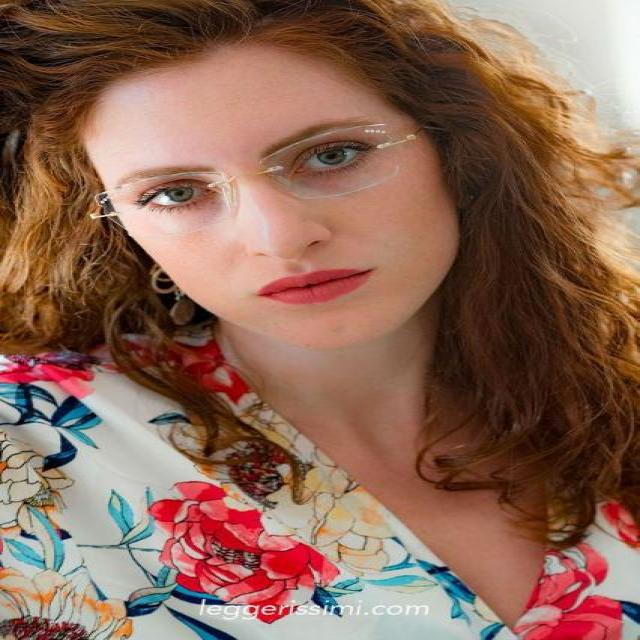glasses: (81, 119, 427, 233)
